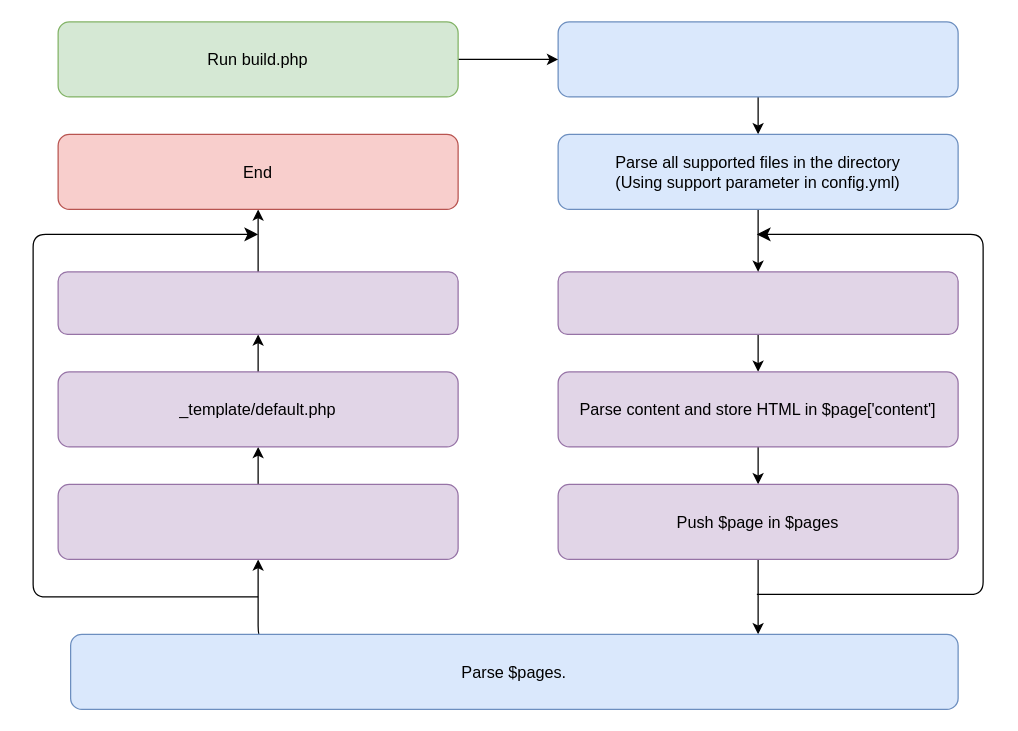
Some shapes in this 1018 by 731 pixel diagram are drawn without their labels. Here are the shapes that lost their labels. From the top down, the centre of each, then its label:
At (x=757, y=59): "Parse config.yml and store in $site variable.".
At (x=257, y=302): "Build file in _site while preserving relative path".
At (x=757, y=302): "Parse YAML parameters and add to $page variable".
At (x=257, y=521): "Call $pages[$i]['layout'] file (e.g. default) from _template".
